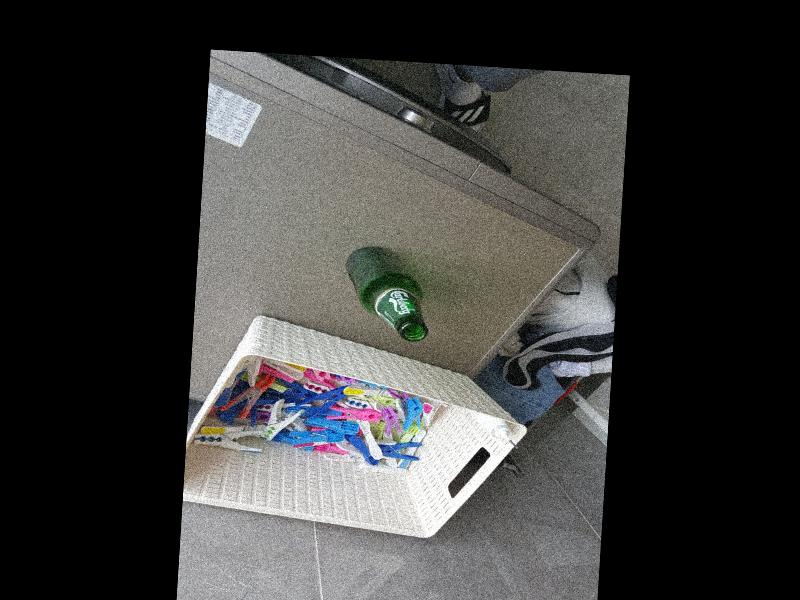Beer: (343, 243, 433, 340)
